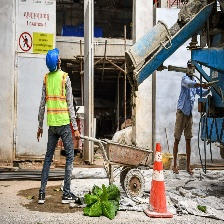helmet: (44, 48, 62, 74)
person: (31, 45, 86, 201)
vest: (41, 67, 73, 130)
